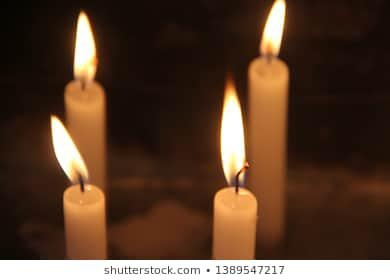fire: (218, 74, 247, 185), (49, 113, 90, 185), (70, 9, 98, 81), (256, 0, 289, 57)
